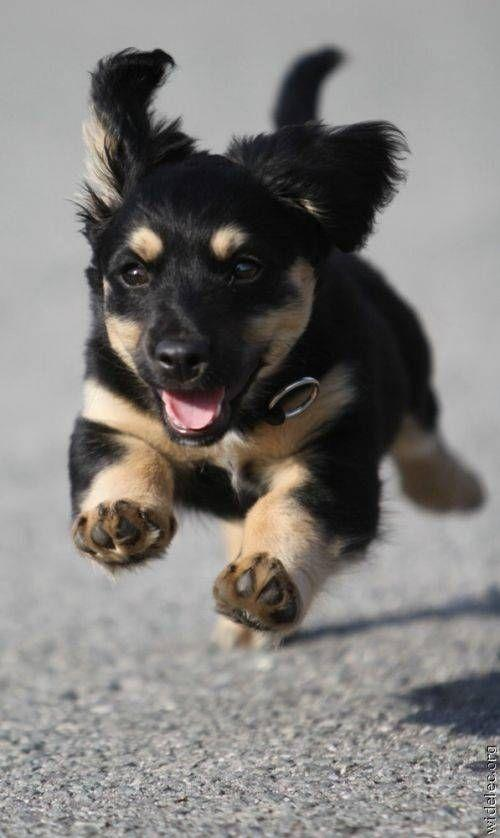puppy-dog: (67, 43, 490, 654)
